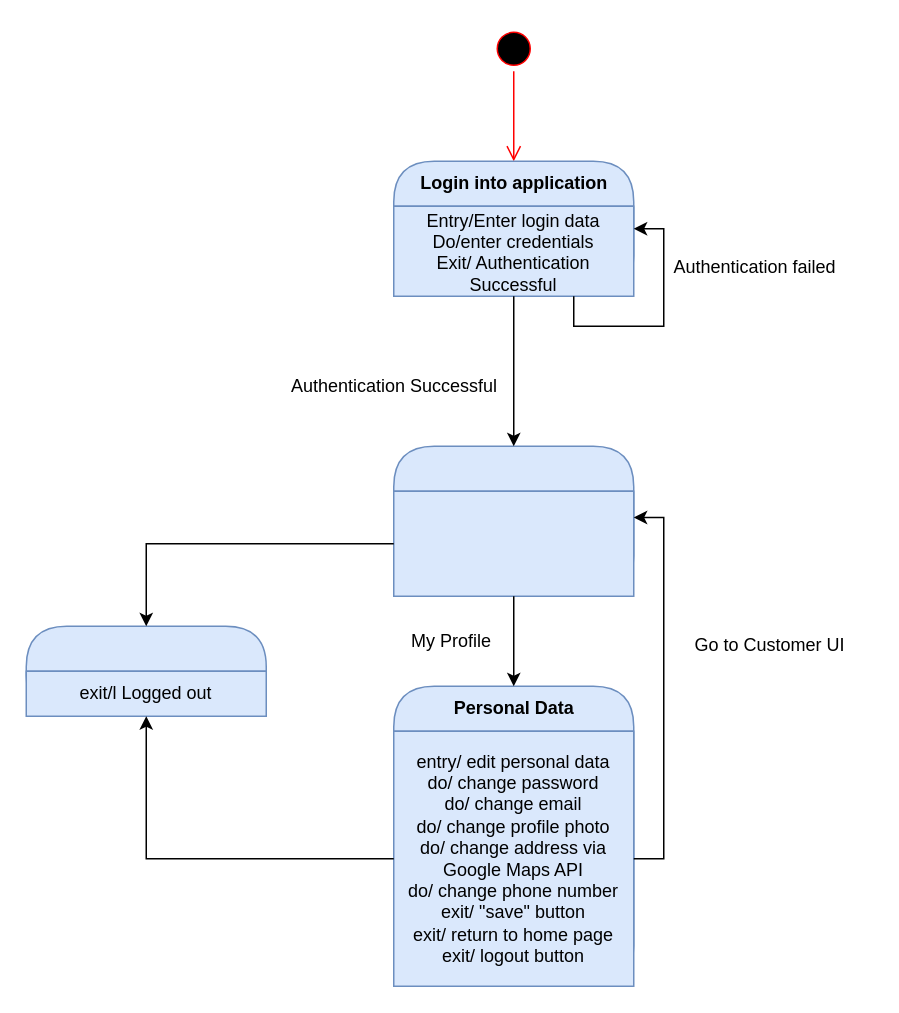
Image size: 899x1013. Some labels were removed from this diagram. Here are the shapes that lost their labels. From the top down, the box of each, then its label:
(392, 445, 634, 596): Customer UI
(392, 490, 634, 596): entry/ Customer user interface do/edit personal data exit/ logout button
(25, 625, 266, 716): Logout
